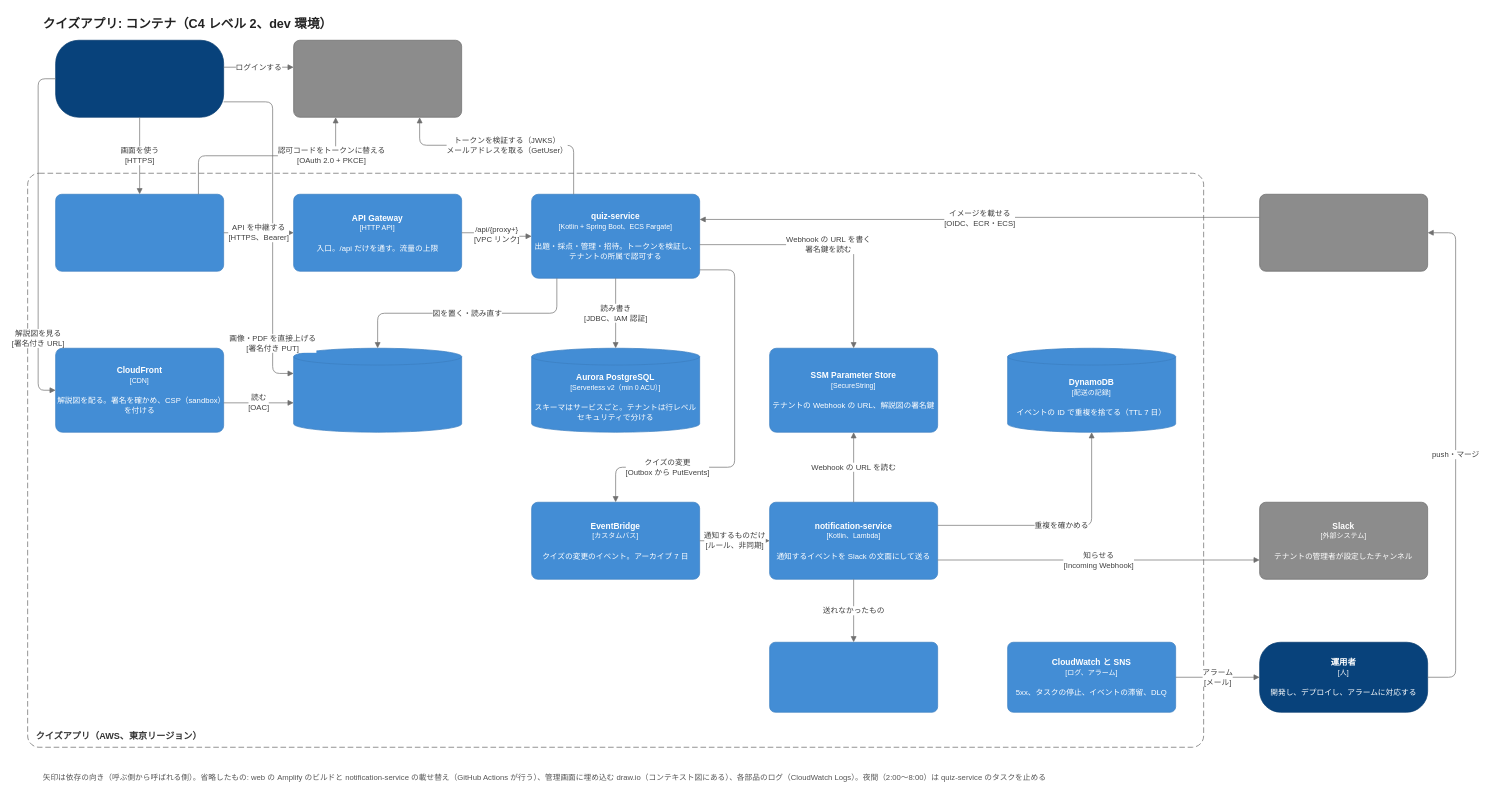
Image size: 1492x808. Some labels were removed from this diagram. The shapes that lost their labels are listed below. From the top down, each one's box as (x1, y1, x2, y2) in pixels, then its label:
(55, 40, 224, 117): 利用者 [人] 一般ユーザーと管理者。ブラウザから使う
(293, 40, 462, 117): Amazon Cognito [外部システム] ログインの画面（Managed Login）と、トークンの発行
(55, 194, 224, 271): Web アプリ [Next.js、Amplify Hosting] 画面を描く。proxy が Cookie のトークンを取り出し、API に付けて中継する
(1259, 194, 1428, 271): GitHub Actions [外部システム] CI と dev へのデプロイ
(293, 348, 462, 432): S3 [解説図のバケット] draw.io の原本と SVG、画像、PDF。公開しない
(769, 642, 938, 712): SQS（DLQ） [キュー] 送れなかった通知を 14 日残す
